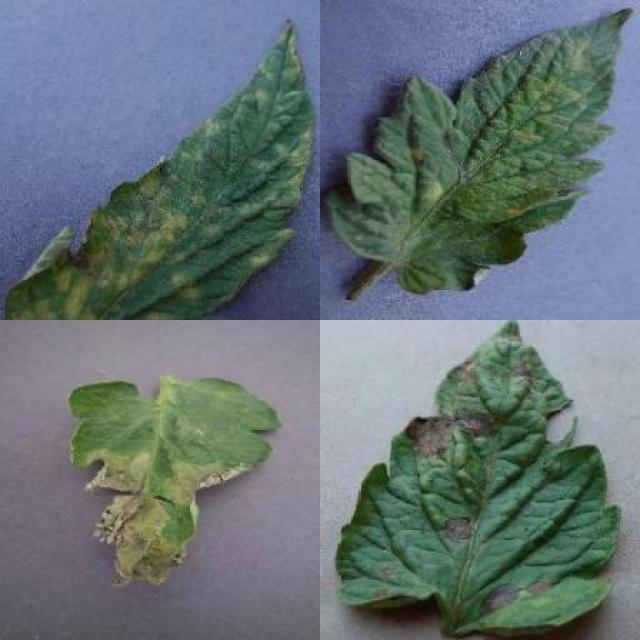Early Blight: (331, 323, 623, 640)
Late Blight: (67, 372, 284, 589)
Leaf Mold: (2, 14, 312, 320), (326, 4, 634, 296)
